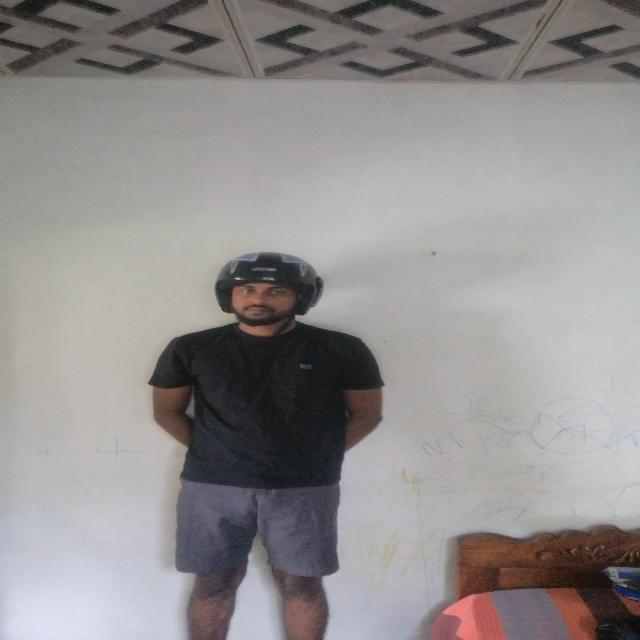Helmet_Wearer: (192, 246, 340, 342)
Person: (148, 251, 384, 640)
